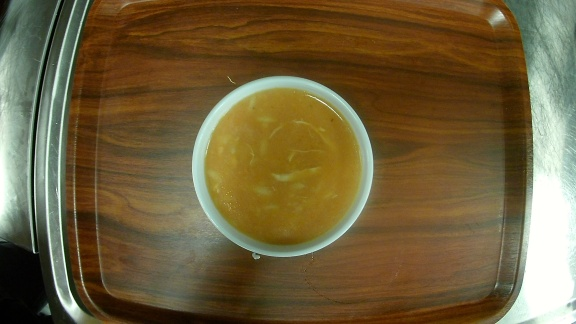tavukcorba: (189, 74, 376, 262)
